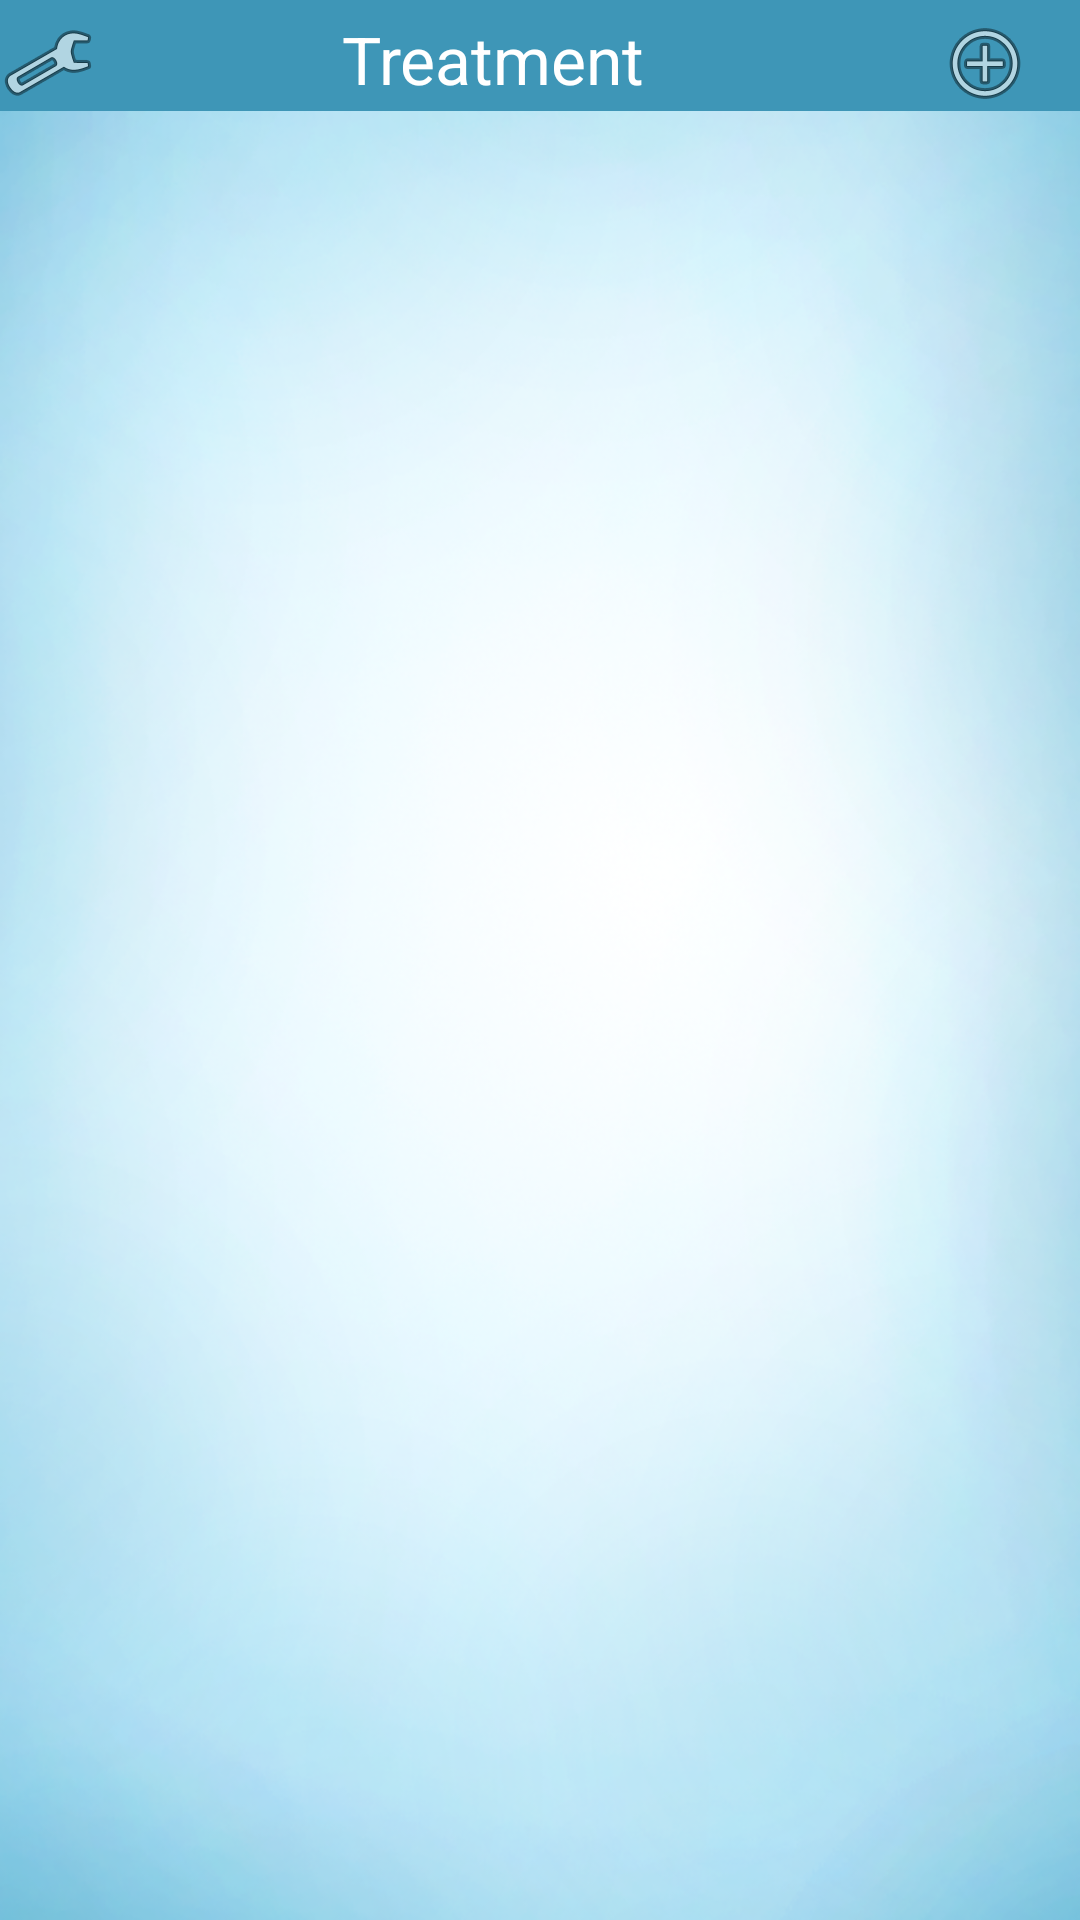

Locate icon controls on the screen. Image size 1080w x 1920h, boxes as rect(x1, y1, x2, y2).
add: rect(949, 28, 1021, 99)
manage: rect(5, 30, 91, 96)
